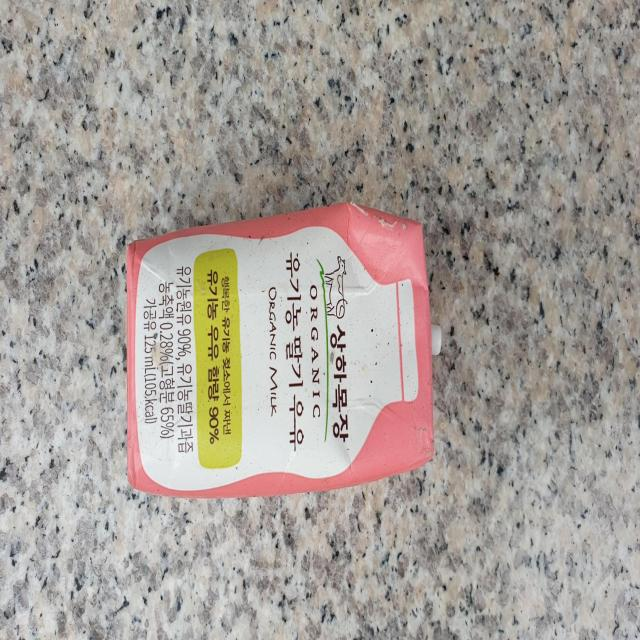paperpack: (126, 202, 435, 497)
